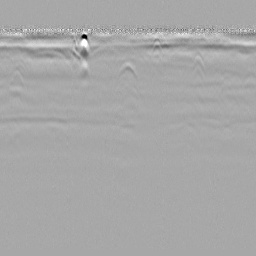cavity: (114, 60, 139, 82)
